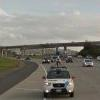Car: (35, 62, 81, 100)
